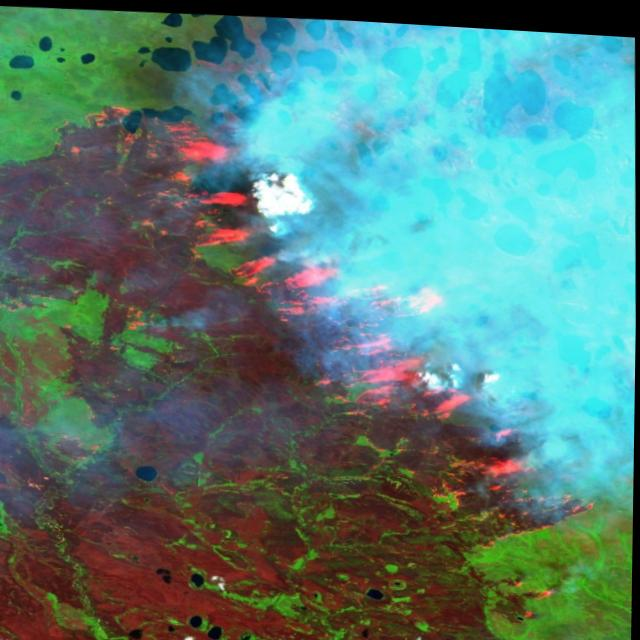fire: (0, 78, 604, 640)
